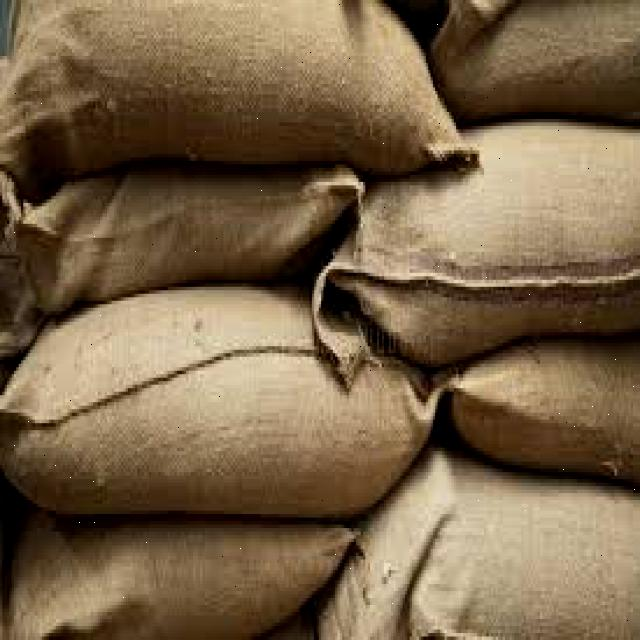sack: (0, 290, 431, 523), (0, 0, 479, 189), (327, 123, 640, 358), (8, 160, 363, 334), (326, 454, 640, 640), (4, 491, 357, 640), (449, 342, 640, 479), (432, 0, 640, 125)
